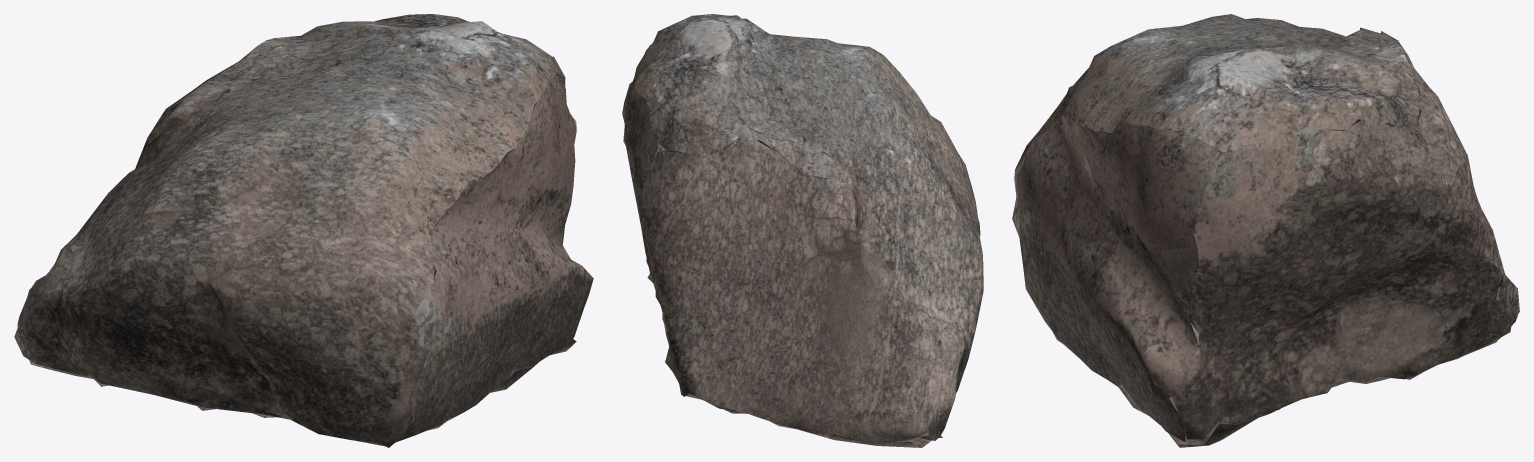
Rendered from BG_RockB.fbx.
3 renders of one model, left to right at view 1: azimuth 30°, elevation 25°; view 2: azimuth 150°, elevation 25°; view 3: azimuth 270°, elevation 25°, orthographic. The views are drawn at different scales.
Visible parts, largest first — view 1: BG_RockB; view 2: BG_RockB; view 3: BG_RockB.
Boxes of the visible parts, box(x1,y1,x2,y2) form: BG_RockB: box(14, 14, 593, 447); BG_RockB: box(622, 14, 983, 447); BG_RockB: box(1012, 14, 1519, 447).
Size of the model in its own units: 1.5 by 1.04 by 1.38.
Materials: 1 (1 with a texture image).
